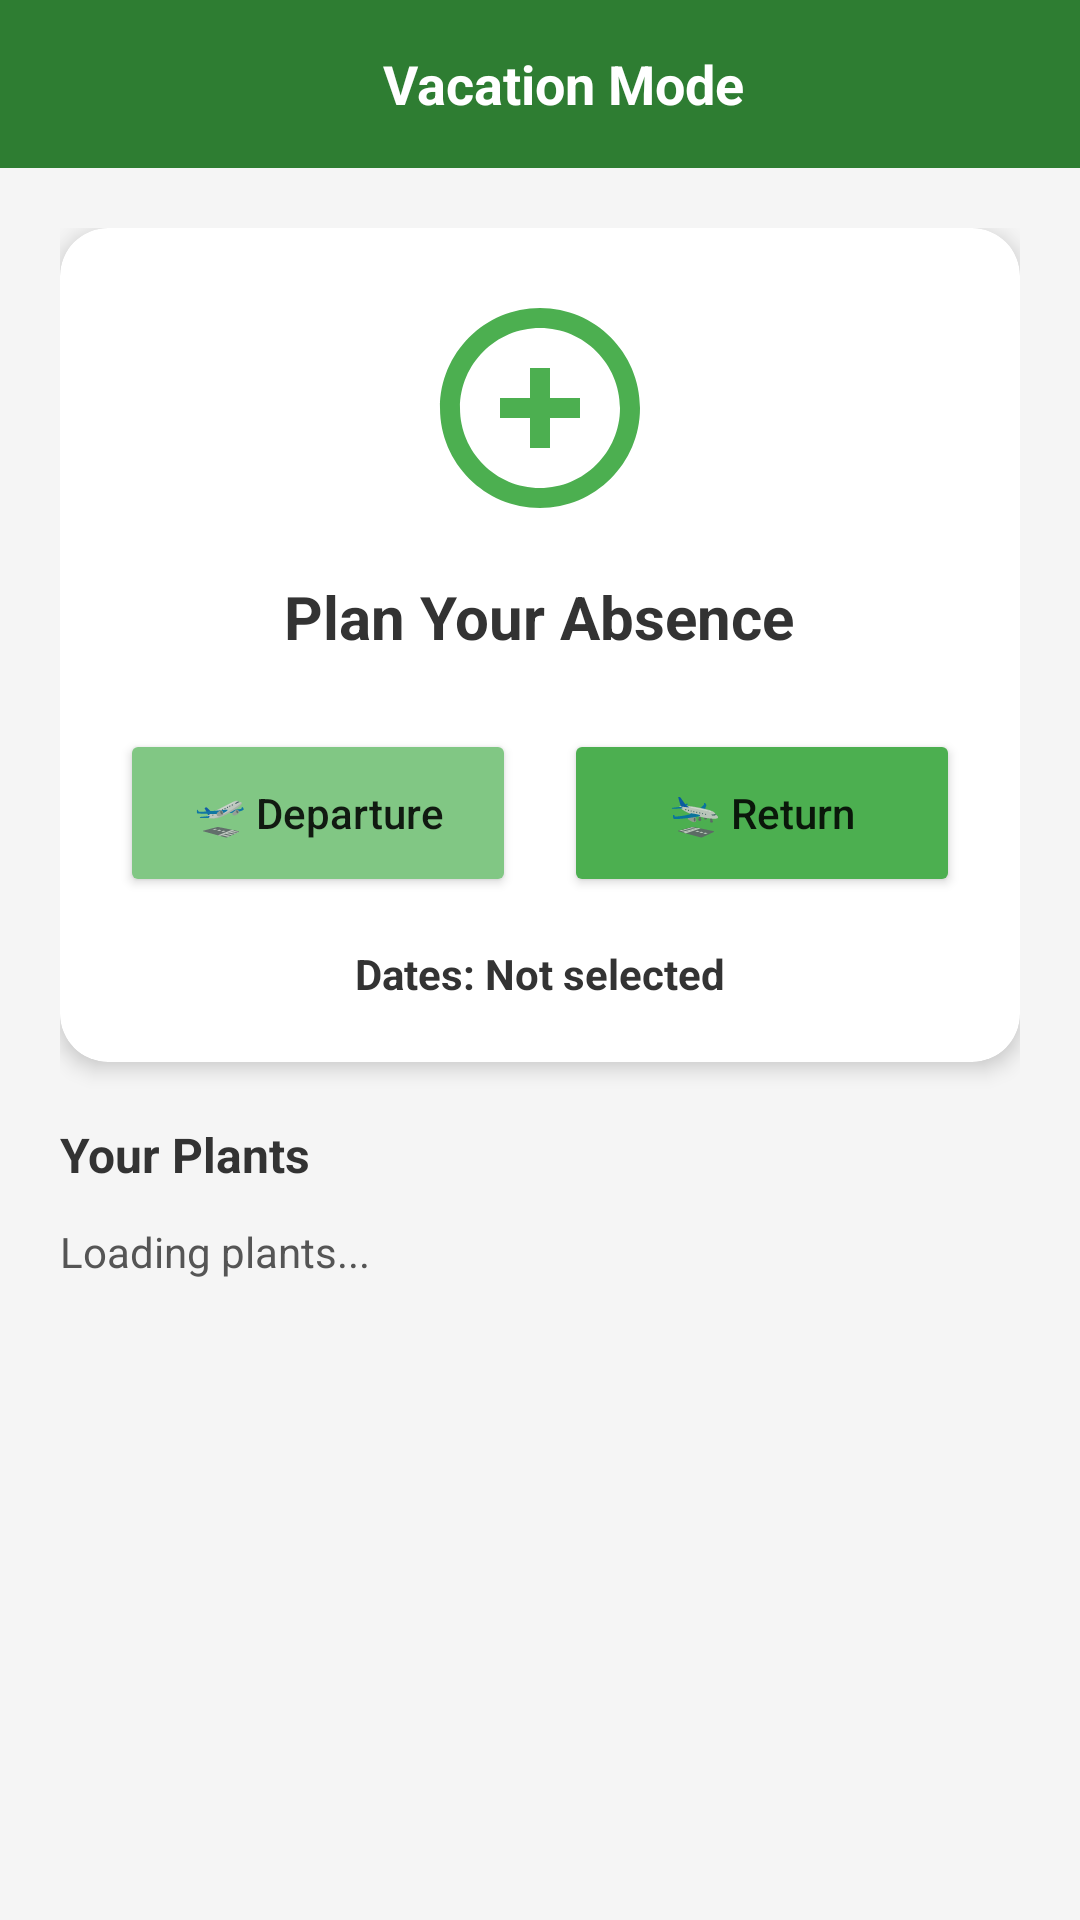

Screen size 1080*1920. Icon name, then its box in pixels as (x1, y1, x2, y2):
care: (440, 308, 640, 508)
